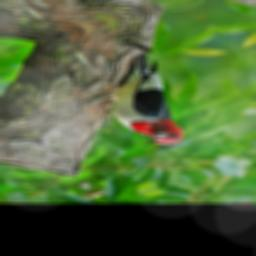Woodpecker: (54, 50, 233, 156)
